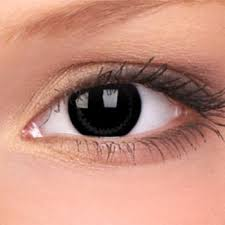pupil: (69, 80, 141, 137)
